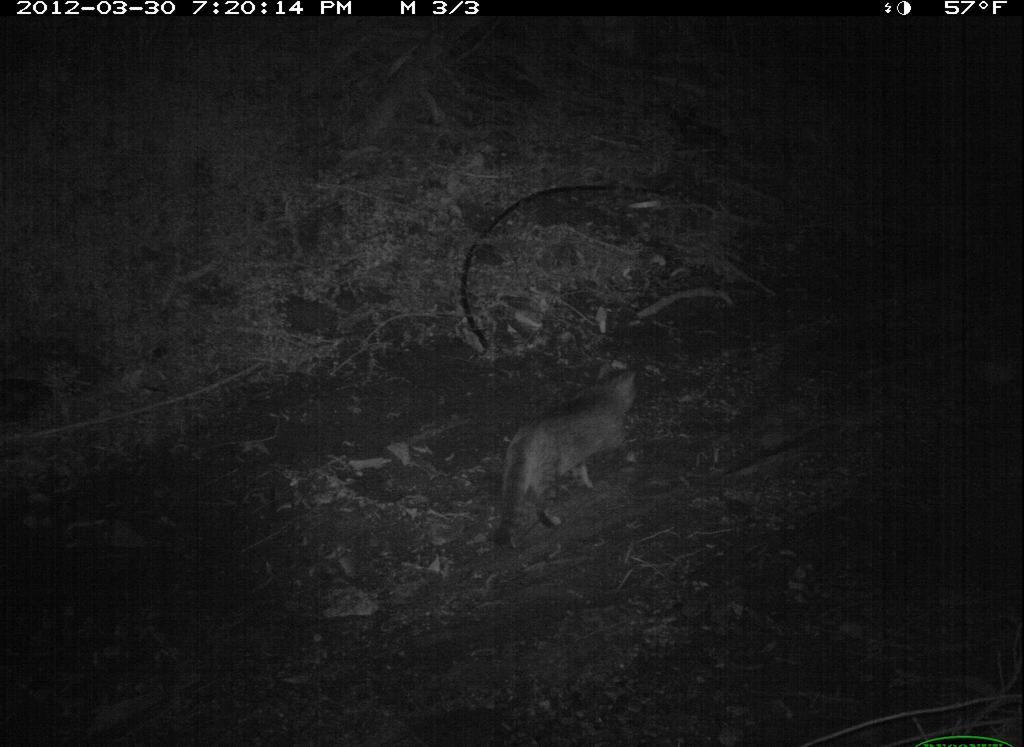cat: (479, 360, 661, 556)
